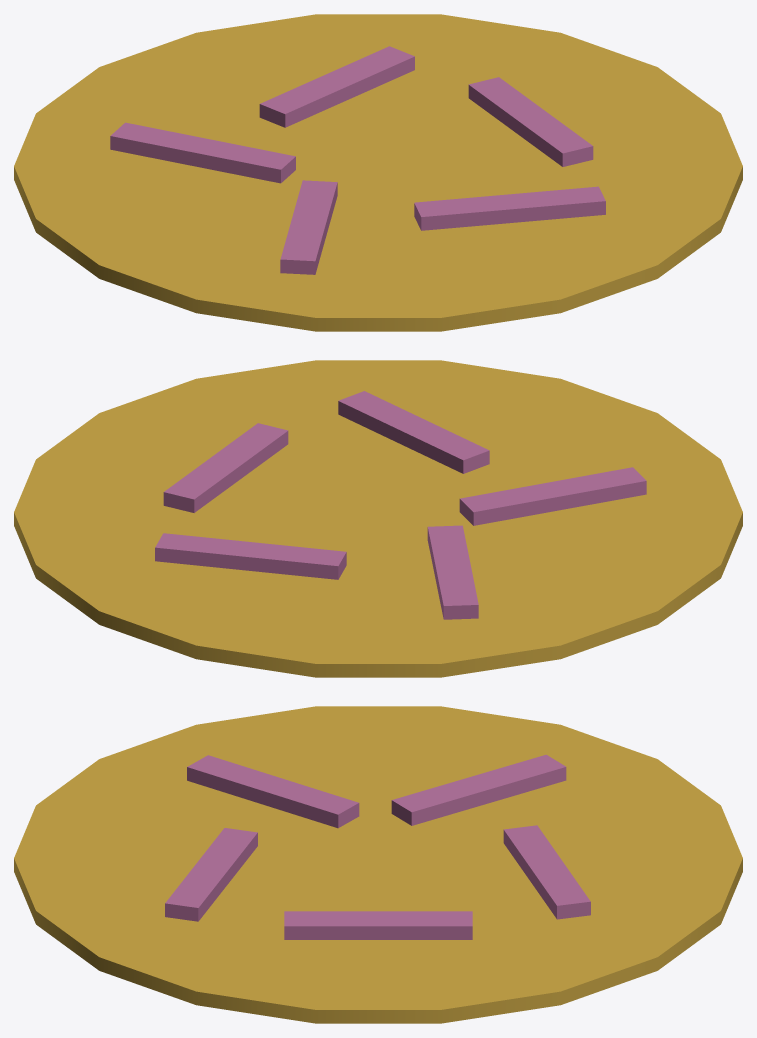
File: ground-decal.glb
3 views of the same model, one above another, from view 1: azimuth 30°, elevation 25°; view 2: azimuth 150°, elevation 25°; view 3: azimuth 270°, elevation 25° (orthographic).
Parts seen in each view (by area): view 1: decal_plate, rune_1, rune_3, rune_4, rune_0, rune_2; view 2: decal_plate, rune_4, rune_2, rune_1, rune_0, rune_3; view 3: decal_plate, rune_0, rune_3, rune_2, rune_1, rune_4.
Boxes of the visible parts, left/top/right/bottom form: decal_plate: left=14, top=14, right=742, bottom=331; rune_1: left=414, top=186, right=605, bottom=230; rune_3: left=110, top=122, right=295, bottom=183; rune_4: left=259, top=46, right=414, bottom=127; rune_0: left=468, top=77, right=593, bottom=166; rune_2: left=280, top=180, right=337, bottom=274; decal_plate: left=14, top=360, right=742, bottom=677; rune_4: left=155, top=533, right=346, bottom=579; rune_2: left=459, top=467, right=646, bottom=525; rune_1: left=338, top=391, right=489, bottom=473; rune_0: left=163, top=423, right=288, bottom=512; rune_3: left=427, top=525, right=478, bottom=619; decal_plate: left=14, top=706, right=742, bottom=1023; rune_0: left=284, top=911, right=472, bottom=939; rune_3: left=391, top=754, right=566, bottom=825; rune_2: left=187, top=755, right=359, bottom=828; rune_1: left=165, top=828, right=257, bottom=921; rune_4: left=503, top=825, right=590, bottom=919.
Size of what is drawn, in the model's own units: 2.86 by 0.12 by 2.9.
